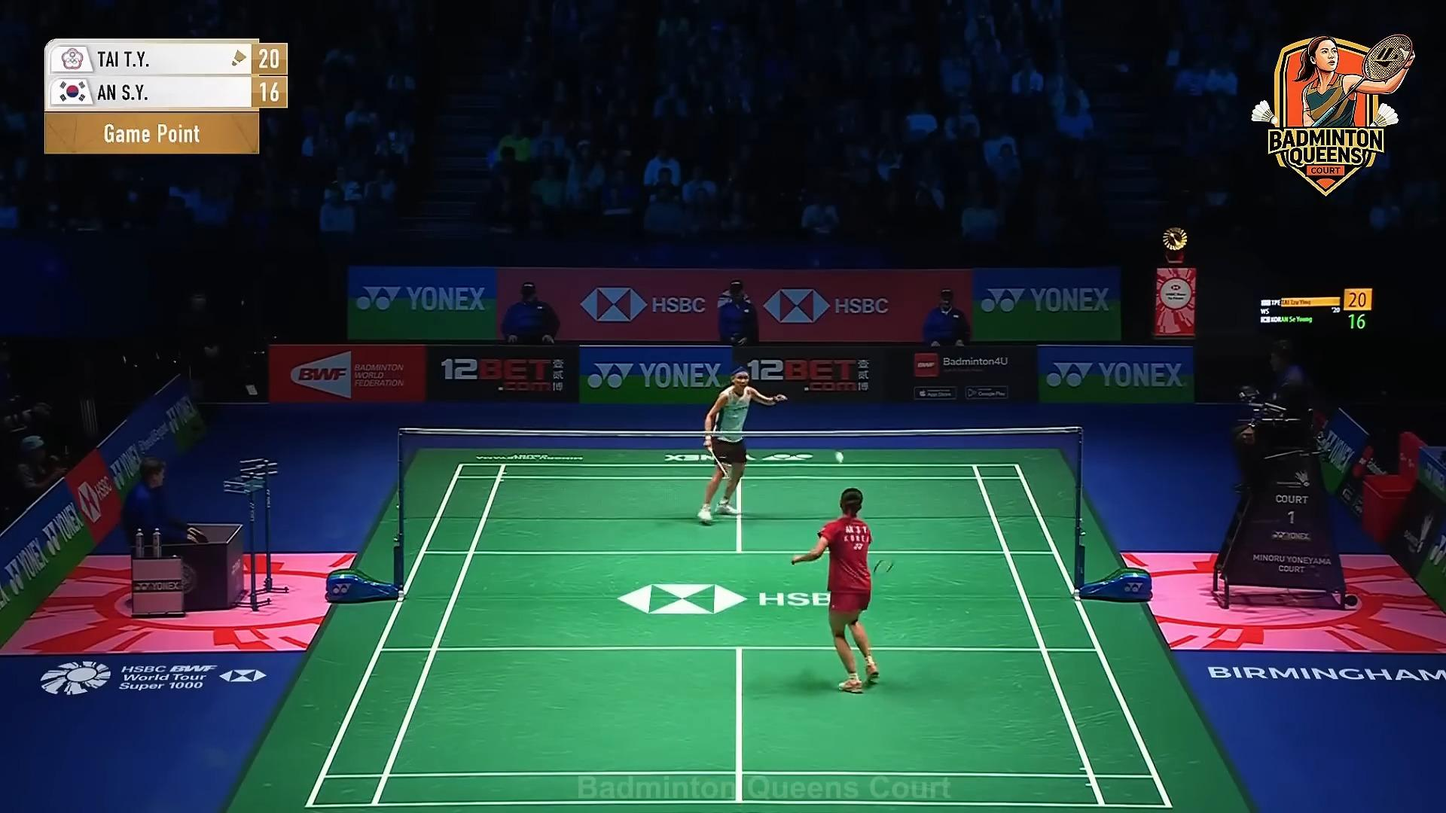player: (791, 488, 879, 693), (698, 362, 788, 525)
